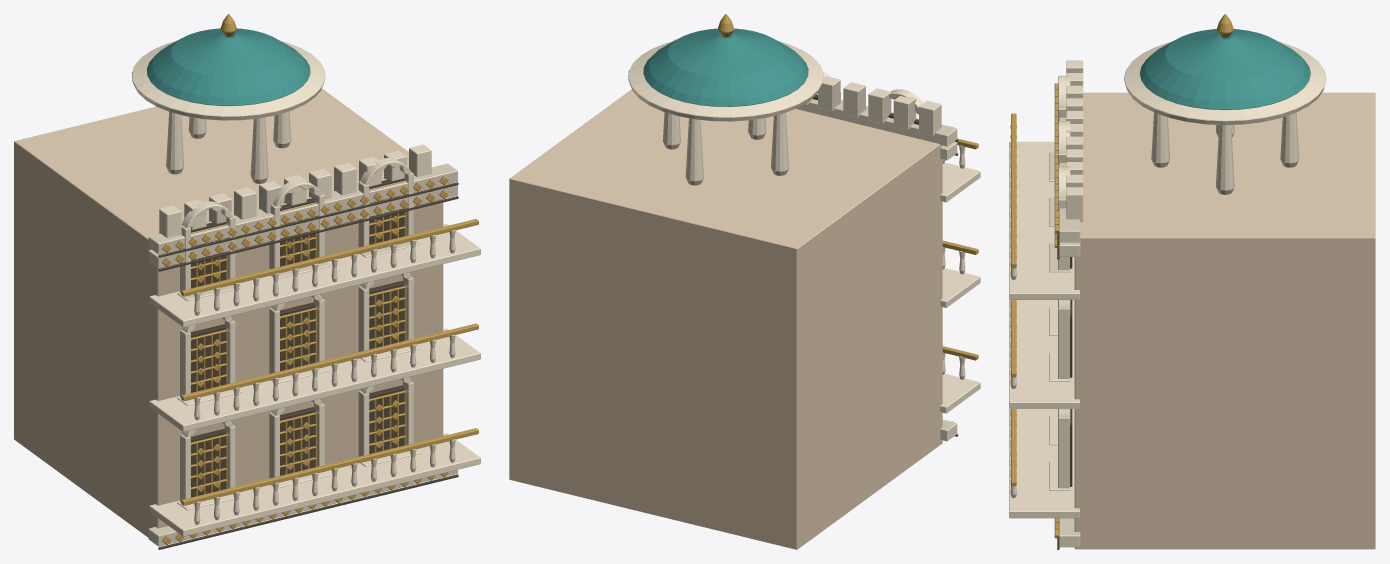
File: kashi-frontage.glb
3 renders of one model, left to right at view 1: azimuth 30°, elevation 25°; view 2: azimuth 150°, elevation 25°; view 3: azimuth 270°, elevation 25°, orthographic. The views are drawn at different scales.
Visible parts, largest first — view 1: Preview_kashi-frontage; view 2: Preview_kashi-frontage; view 3: Preview_kashi-frontage.
Part boxes in pixels (x1=…): Preview_kashi-frontage: x1=14, y1=14, x2=480, y2=549; Preview_kashi-frontage: x1=509, y1=14, x2=980, y2=549; Preview_kashi-frontage: x1=1009, y1=14, x2=1375, y2=549.
Size of the model in its own units: 8.4 by 11.88 by 8.52.
